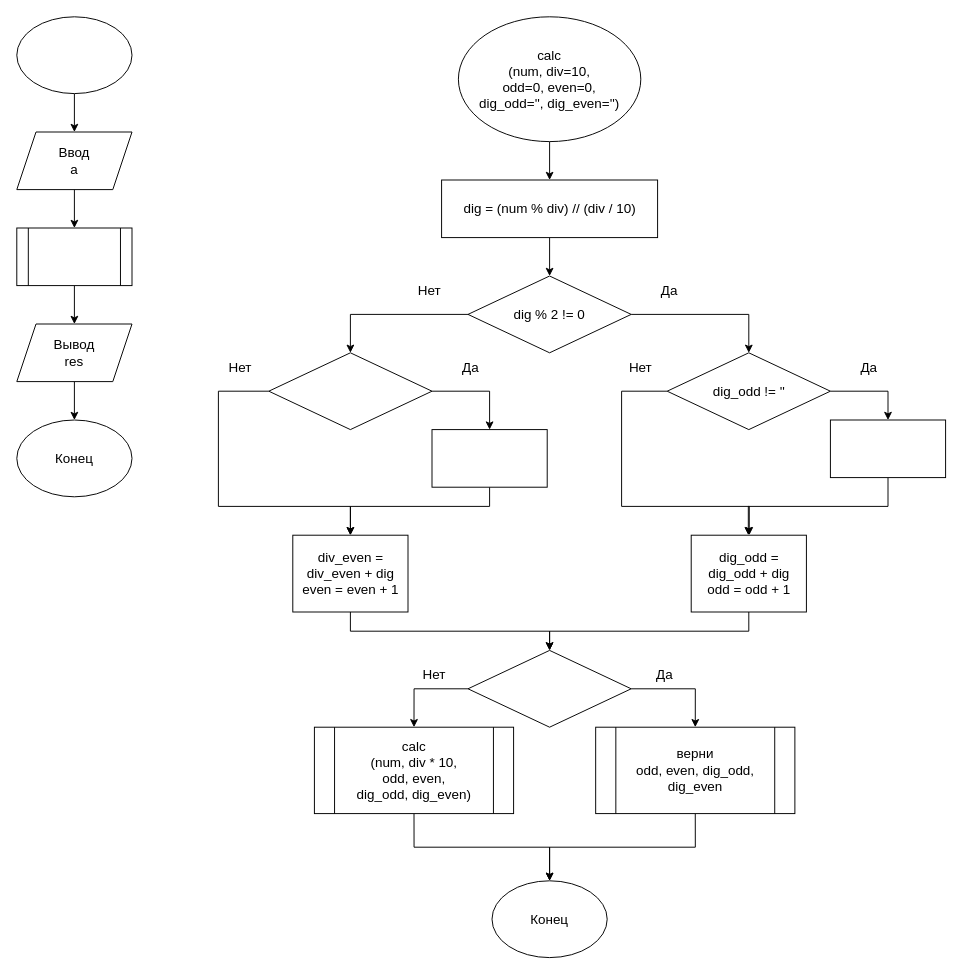
Image size: 963x974. Some labels were removed from this diagram. The centre of each missing label's shape, as x and y in pixels:
"dig_even != ''" goes at point 350,391.
"dig_odd = dig_odd + ', '" goes at point 887,448.
"div_even = div_even + ', '" goes at point 489,458.
"num = num % div" goes at point 549,688.
"res = calc(a)" goes at point 74,256.
"Начало" goes at point 74,55.
